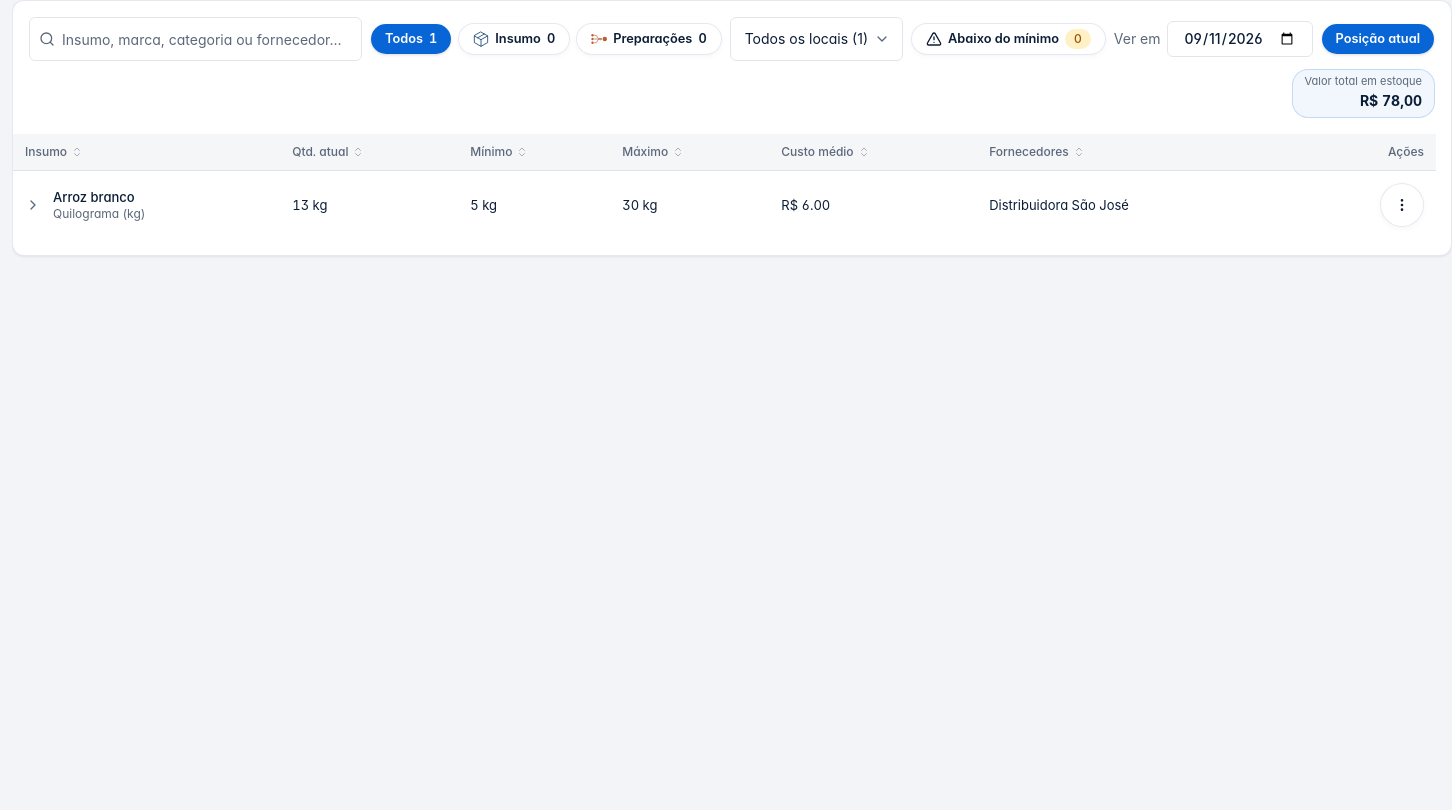
it: abre as movimentações do insumo e mostra o caminho até o saldo atual
Expected: the element labelled "Valor total em estoque" reads "Valor total em estoque R$ 78,00", [1360,92,1422,109]
Click the button named "Abrir movimentações de Arroz branco" at [33, 205], box [21,193,45,217]
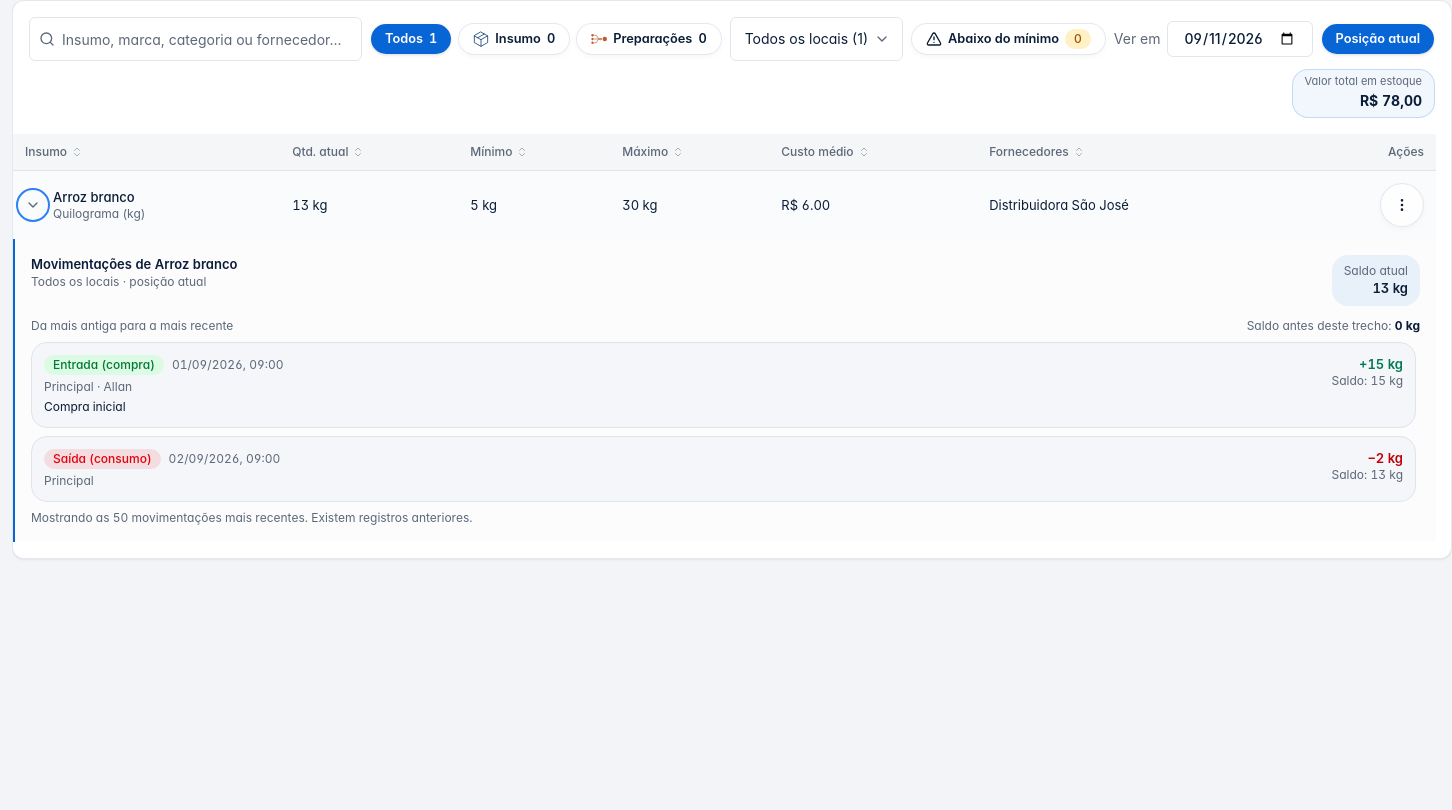
Result: the text "Saldo antes deste trecho: 0 kg" is shown at [1247,318,1420,334]
Result: the text "Mostrando as 50 movimentações mais recentes. Existem registros anteriores." is shown at [31,510,472,525]
